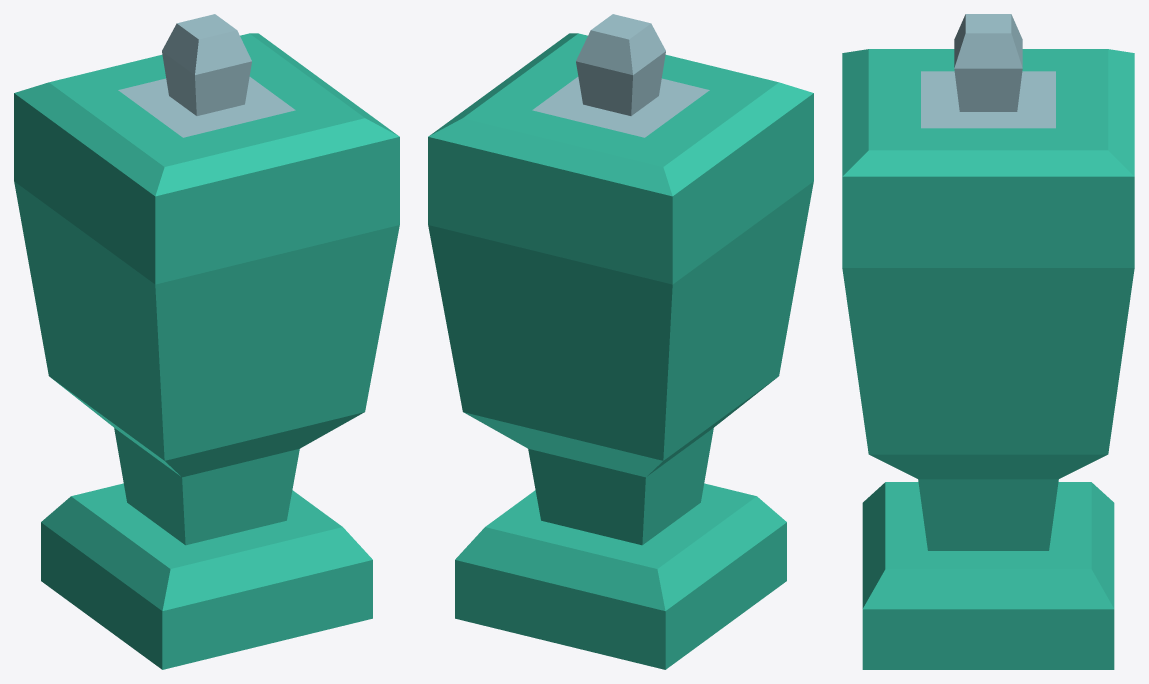
File: urn.obj
The picture shows the model from 3 angles, left to right: view 1: azimuth 30°, elevation 25°; view 2: azimuth 150°, elevation 25°; view 3: azimuth 270°, elevation 25°; orthographic projection. The views are drawn at different scales.
Visible parts, largest first — view 1: urn, lid; view 2: urn, lid; view 3: urn, lid.
Part boxes in pixels (x1,y1,x2,y2): urn: [14, 122, 399, 669]; lid: [14, 14, 399, 225]; urn: [428, 122, 813, 669]; lid: [428, 14, 813, 225]; urn: [842, 207, 1134, 669]; lid: [842, 14, 1134, 206].
Bounding box in the file's own units: 0.1742 × 0.39 × 0.1742.
